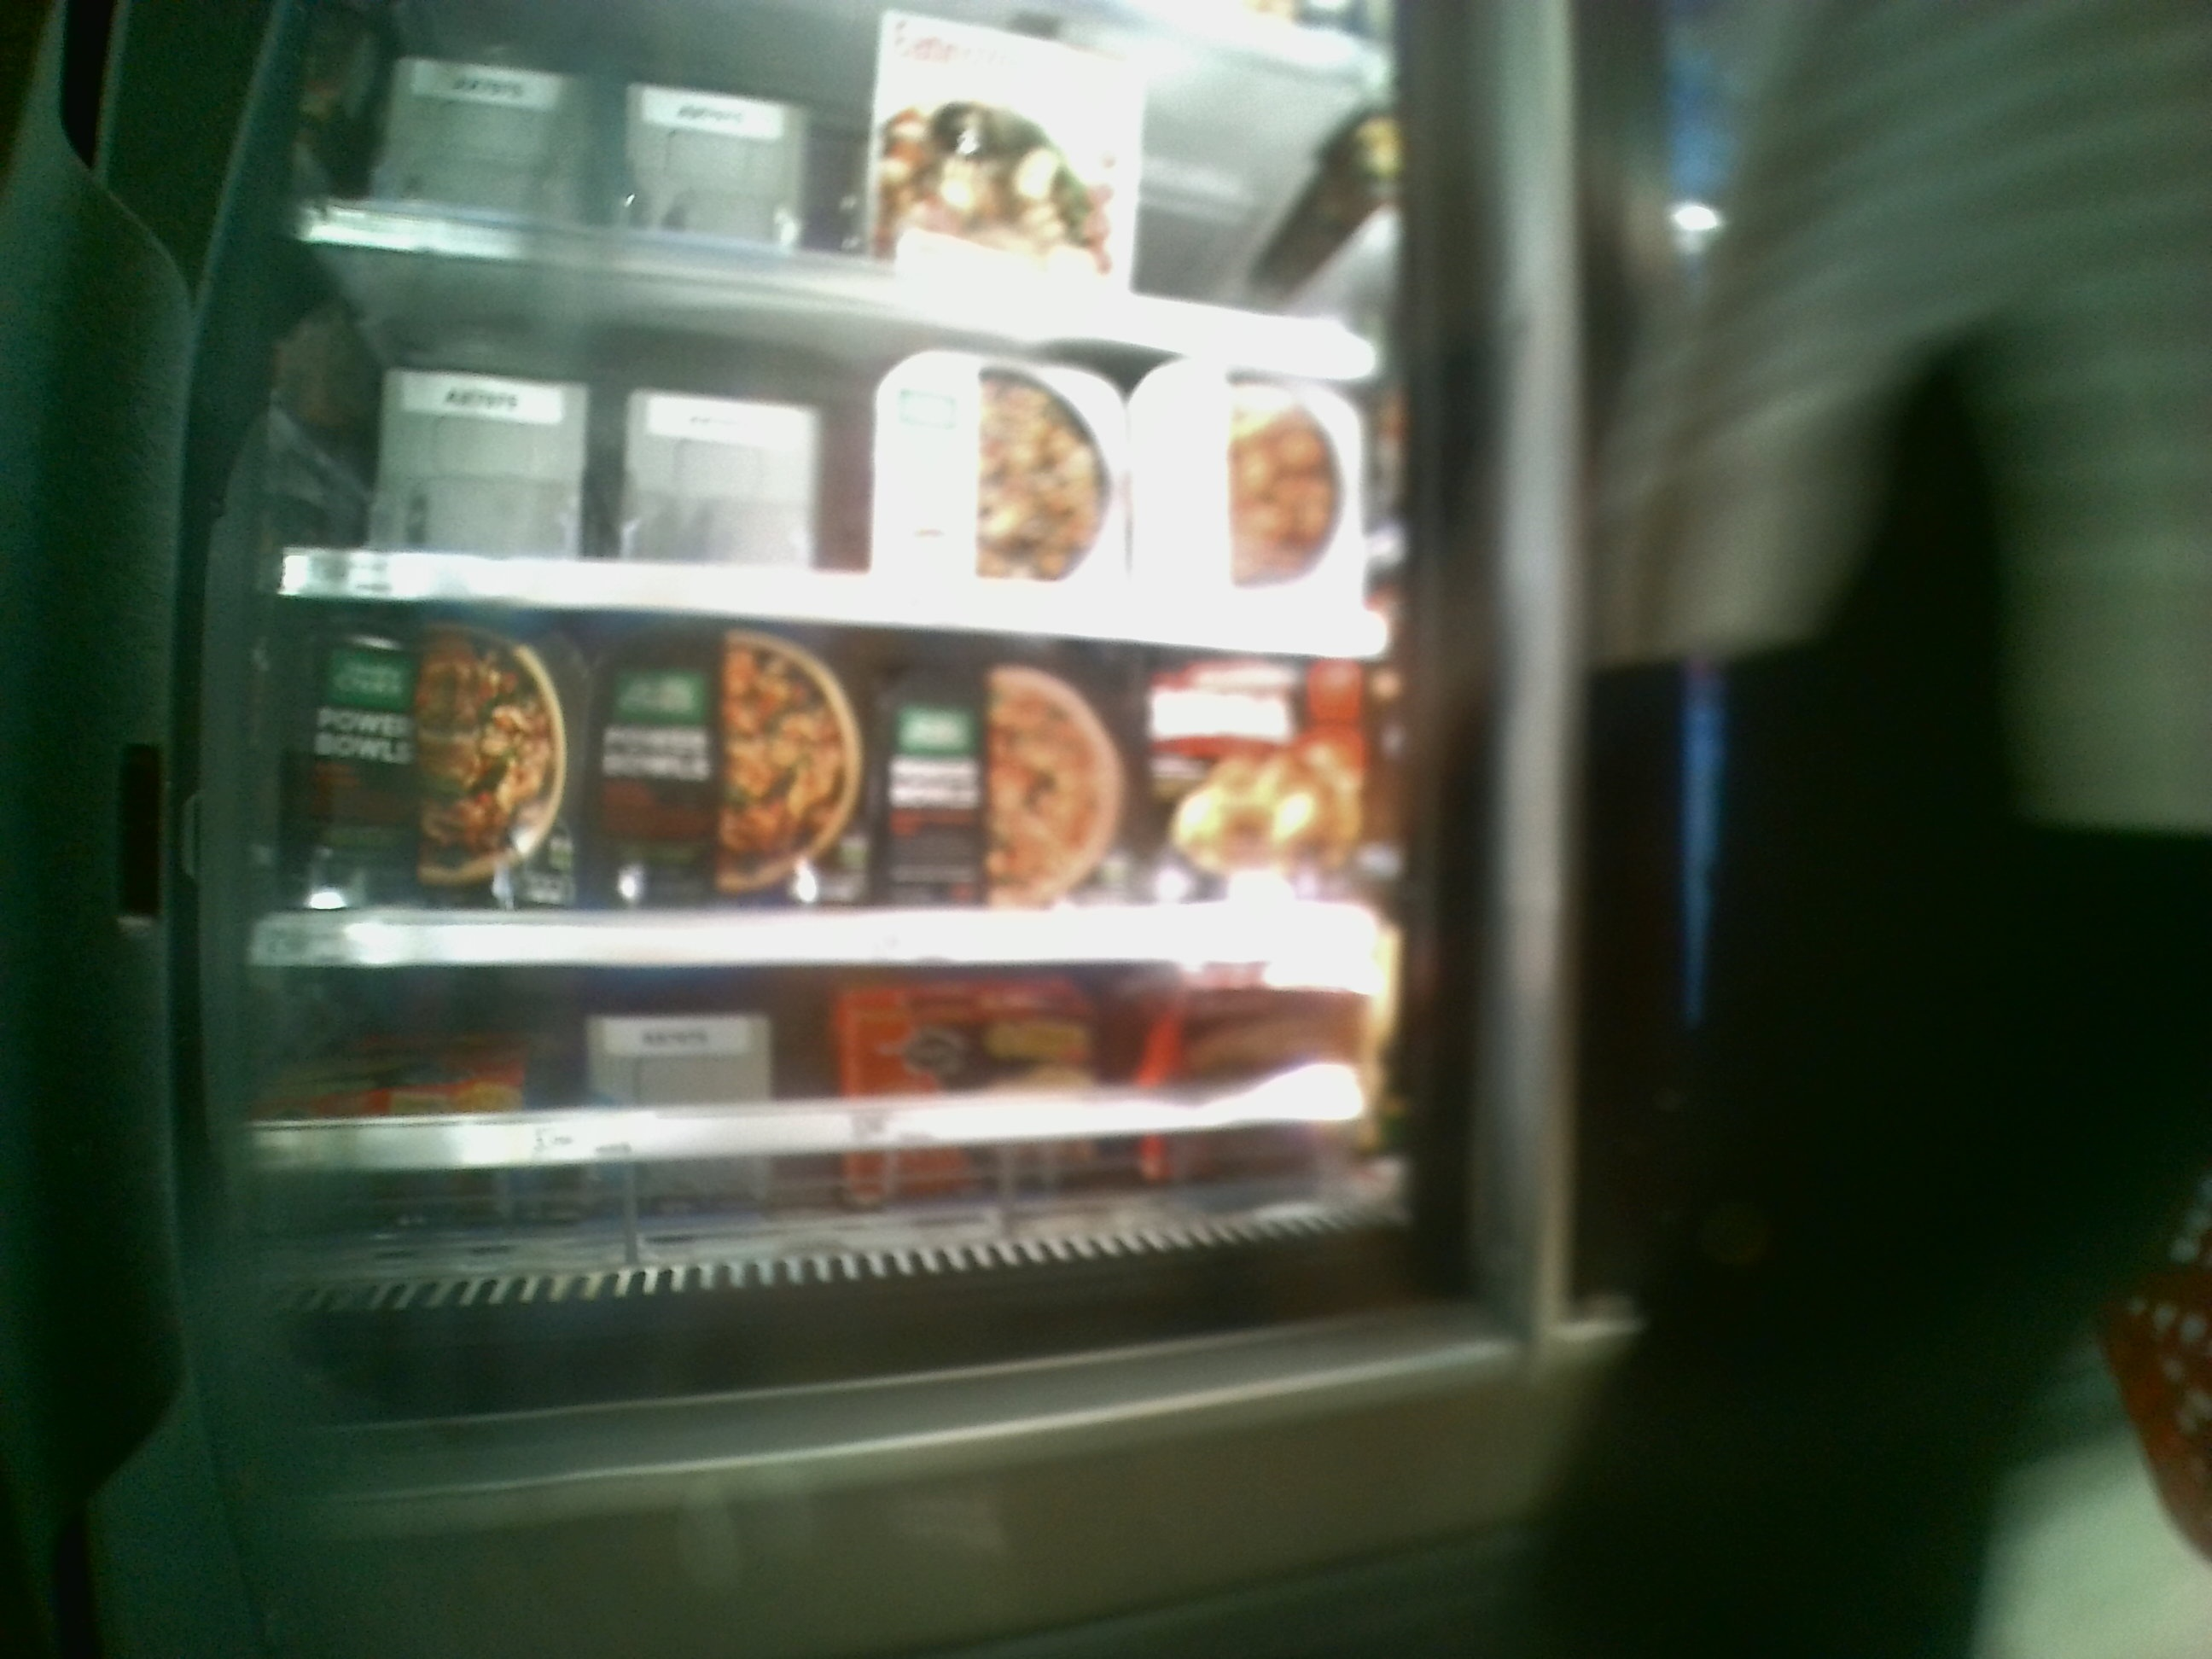shelf: (261, 582, 1393, 962), (249, 958, 1411, 1274)
